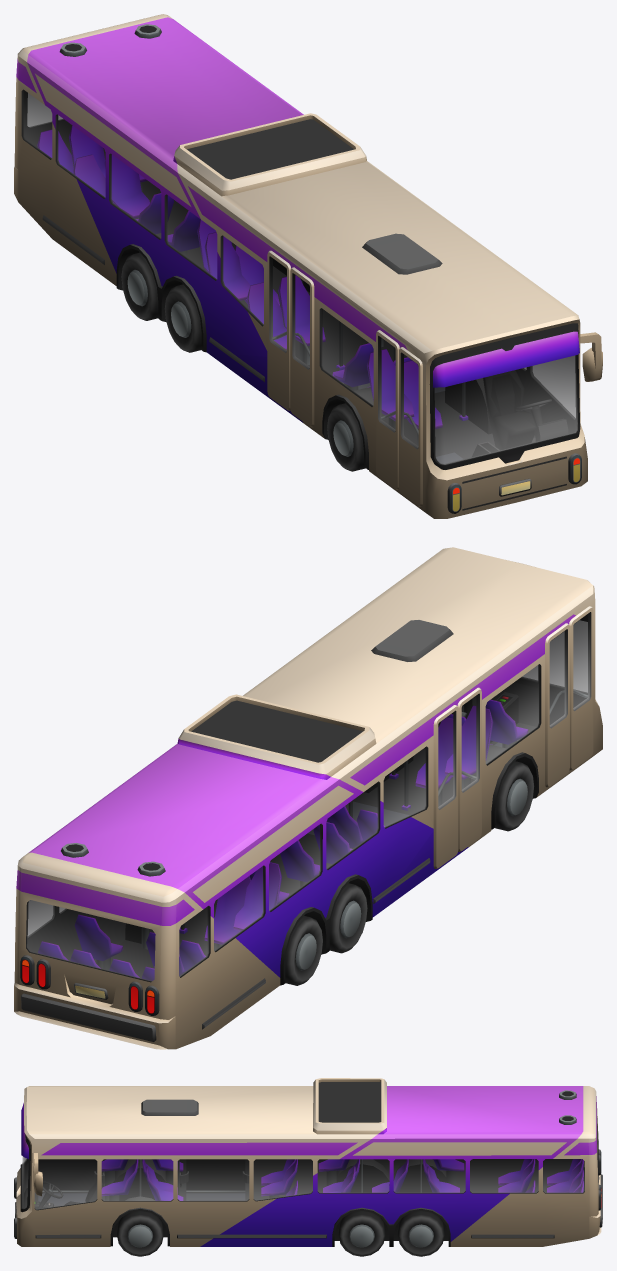
The model's file is tp_bus_01a.glb.
3 renders of one model, top to bottom at view 1: azimuth 30°, elevation 25°; view 2: azimuth 150°, elevation 25°; view 3: azimuth 270°, elevation 25°, orthographic. The views are drawn at different scales.
Parts seen in each view (by area): view 1: TP_Bus_01A_Body, TP_Bus_01A_Door_3, TP_Bus_01A_Door_4, TP_Bus_01A_Door_1, TP_Bus_01A_Door_2, TP_Bus_01A_Wheel_R.R, TP_Bus_01A_Wheel_M.R, TP_Bus_01A_Wheel_F.R; view 2: TP_Bus_01A_Body, TP_Bus_01A_Door_4, TP_Bus_01A_Door_2, TP_Bus_01A_Door_3, TP_Bus_01A_Door_1, TP_Bus_01A_Wheel_F.R, TP_Bus_01A_Wheel_M.R, TP_Bus_01A_Wheel_R.R; view 3: TP_Bus_01A_Body, TP_Bus_01A_Wheel_M.L, TP_Bus_01A_Wheel_R.L, TP_Bus_01A_Wheel_F.L, TP_Bus_01A_Door_3, TP_Bus_01A_Door_4, TP_Bus_01A_Door_2, TP_Bus_01A_Door_1, TP_Bus_01A_Steering_Wheel.
Part boxes in pixels (x1,y1,x2,y2): TP_Bus_01A_Body: (14, 14, 602, 518); TP_Bus_01A_Door_3: (290, 267, 314, 427); TP_Bus_01A_Door_4: (267, 250, 290, 410); TP_Bus_01A_Door_1: (399, 347, 422, 506); TP_Bus_01A_Door_2: (376, 330, 399, 489); TP_Bus_01A_Wheel_R.R: (121, 252, 158, 320); TP_Bus_01A_Wheel_M.R: (164, 284, 201, 352); TP_Bus_01A_Wheel_F.R: (327, 403, 365, 471); TP_Bus_01A_Body: (14, 547, 602, 1049); TP_Bus_01A_Door_4: (433, 705, 458, 868); TP_Bus_01A_Door_2: (545, 623, 569, 787); TP_Bus_01A_Door_3: (457, 687, 481, 851); TP_Bus_01A_Door_1: (569, 606, 593, 770); TP_Bus_01A_Wheel_F.R: (494, 761, 534, 831); TP_Bus_01A_Wheel_M.R: (329, 883, 367, 953); TP_Bus_01A_Wheel_R.R: (285, 916, 322, 985); TP_Bus_01A_Body: (14, 1078, 602, 1246); TP_Bus_01A_Wheel_M.L: (338, 1211, 385, 1256); TP_Bus_01A_Wheel_R.L: (397, 1211, 444, 1256); TP_Bus_01A_Wheel_F.L: (117, 1211, 163, 1256); TP_Bus_01A_Door_3: (179, 1159, 215, 1190); TP_Bus_01A_Door_4: (216, 1159, 249, 1190); TP_Bus_01A_Door_2: (67, 1159, 104, 1190); TP_Bus_01A_Door_1: (38, 1159, 67, 1190); TP_Bus_01A_Steering_Wheel: (37, 1181, 63, 1209).
Bounding box in the file's own units: 3.32 × 3.24 × 13.31.
3 materials, 3 textured.
